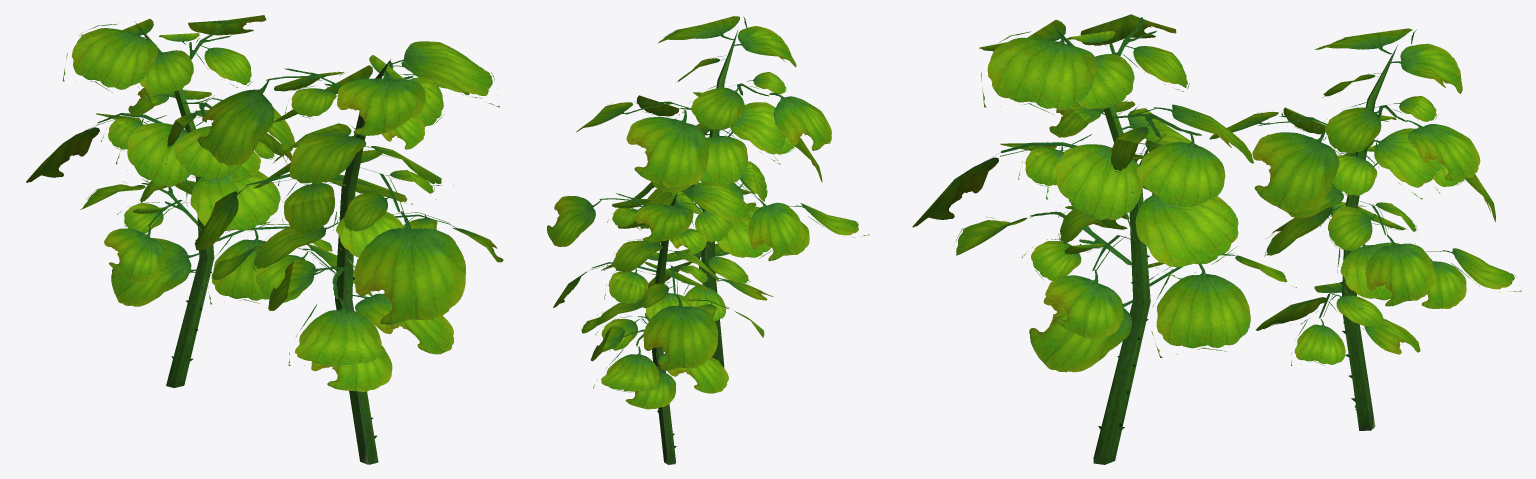
The model's file is Plant_zhiwu_tongyong_05.FBX.
The picture shows the model from 3 angles, left to right: view 1: azimuth 30°, elevation 25°; view 2: azimuth 150°, elevation 25°; view 3: azimuth 270°, elevation 25°; orthographic projection. The views are drawn at different scales.
Visible parts, largest first — view 1: Plant_zhiwu_tongyong_05; view 2: Plant_zhiwu_tongyong_05; view 3: Plant_zhiwu_tongyong_05.
Part boxes in pixels (box(x1,y1,x2,y2)): Plant_zhiwu_tongyong_05: box(26, 15, 503, 464); Plant_zhiwu_tongyong_05: box(547, 16, 869, 464); Plant_zhiwu_tongyong_05: box(912, 14, 1521, 464).
Bounding box in the file's own units: 99.79 × 130 × 168.
